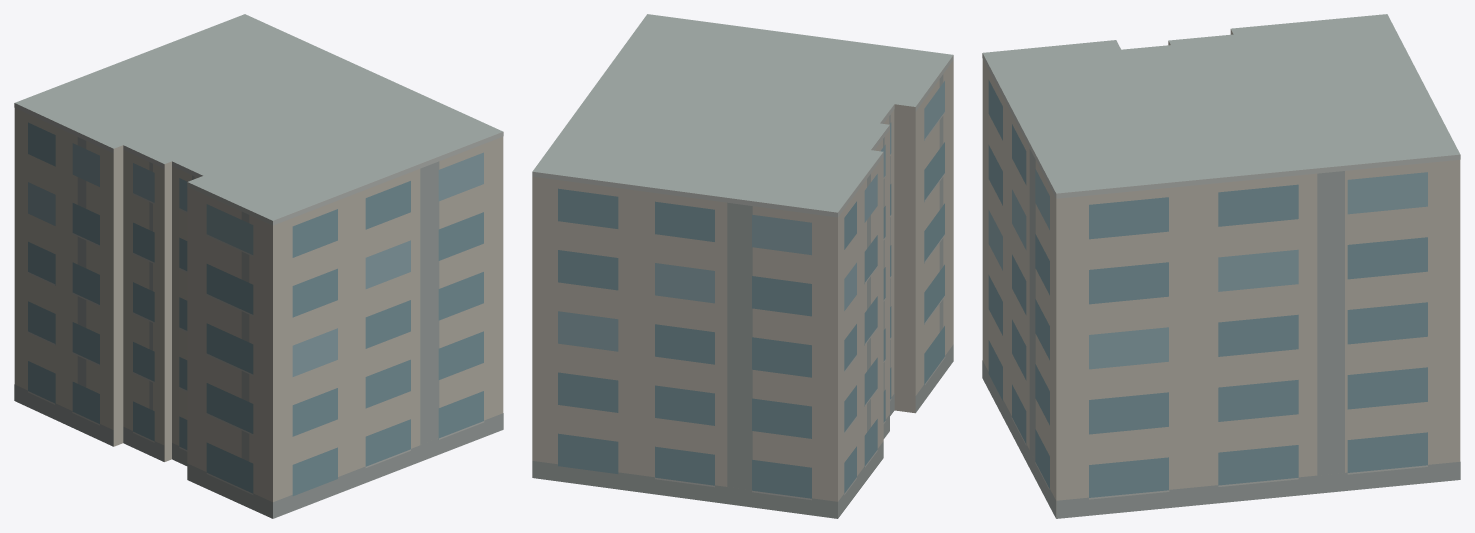
Rendered from survey-upis-32798969.glb.
3 views of the same model, side by side, from view 1: azimuth 30°, elevation 25°; view 2: azimuth 150°, elevation 25°; view 3: azimuth 270°, elevation 25° (orthographic). The views are drawn at different scales.
Visible parts, largest first — view 1: survey-upis-32798969.tmp; view 2: survey-upis-32798969.tmp; view 3: survey-upis-32798969.tmp.
Boxes of the visible parts, x1=… form: survey-upis-32798969.tmp: x1=14, y1=14, x2=503, y2=518; survey-upis-32798969.tmp: x1=532, y1=14, x2=953, y2=518; survey-upis-32798969.tmp: x1=982, y1=14, x2=1460, y2=518.
Size of the model in its own units: 18.07 by 15.25 by 20.32.
